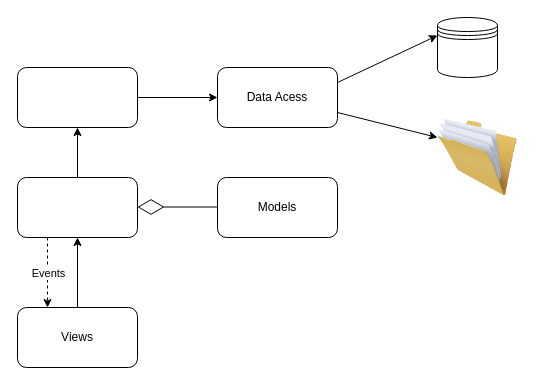
The diagram is 535 pixels wide and 385 high, and some of its shapes have lost their labels. The centre of each missing label's shape, as x and y in pixels:
Business Logic: point 77,97
View Models: point 77,207
